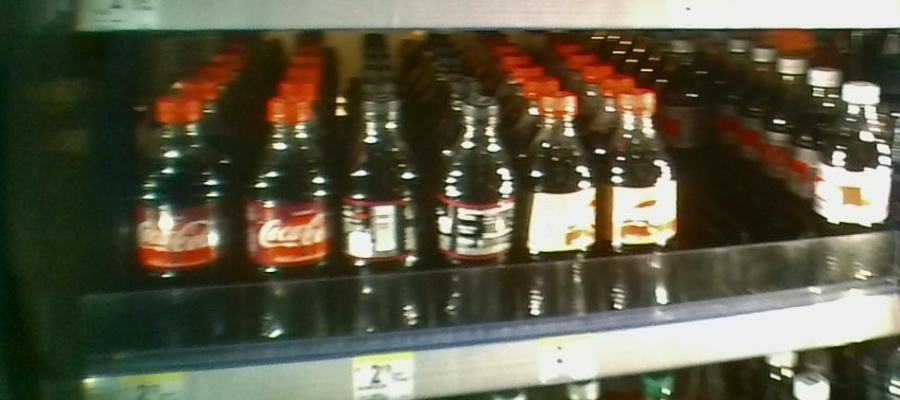bottle: (134, 85, 235, 357), (238, 93, 336, 355), (337, 85, 424, 342), (426, 86, 516, 334), (520, 87, 601, 328), (604, 74, 683, 316), (817, 81, 894, 293), (670, 40, 712, 149)
